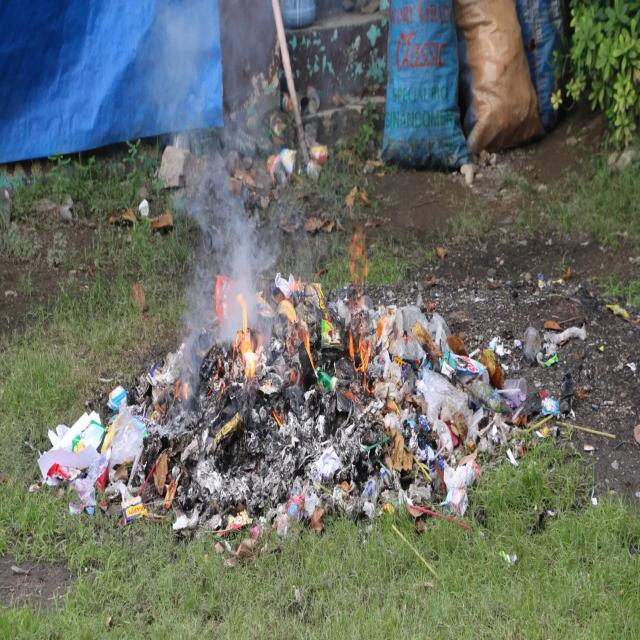fire: (231, 293, 257, 382), (350, 231, 370, 299)
